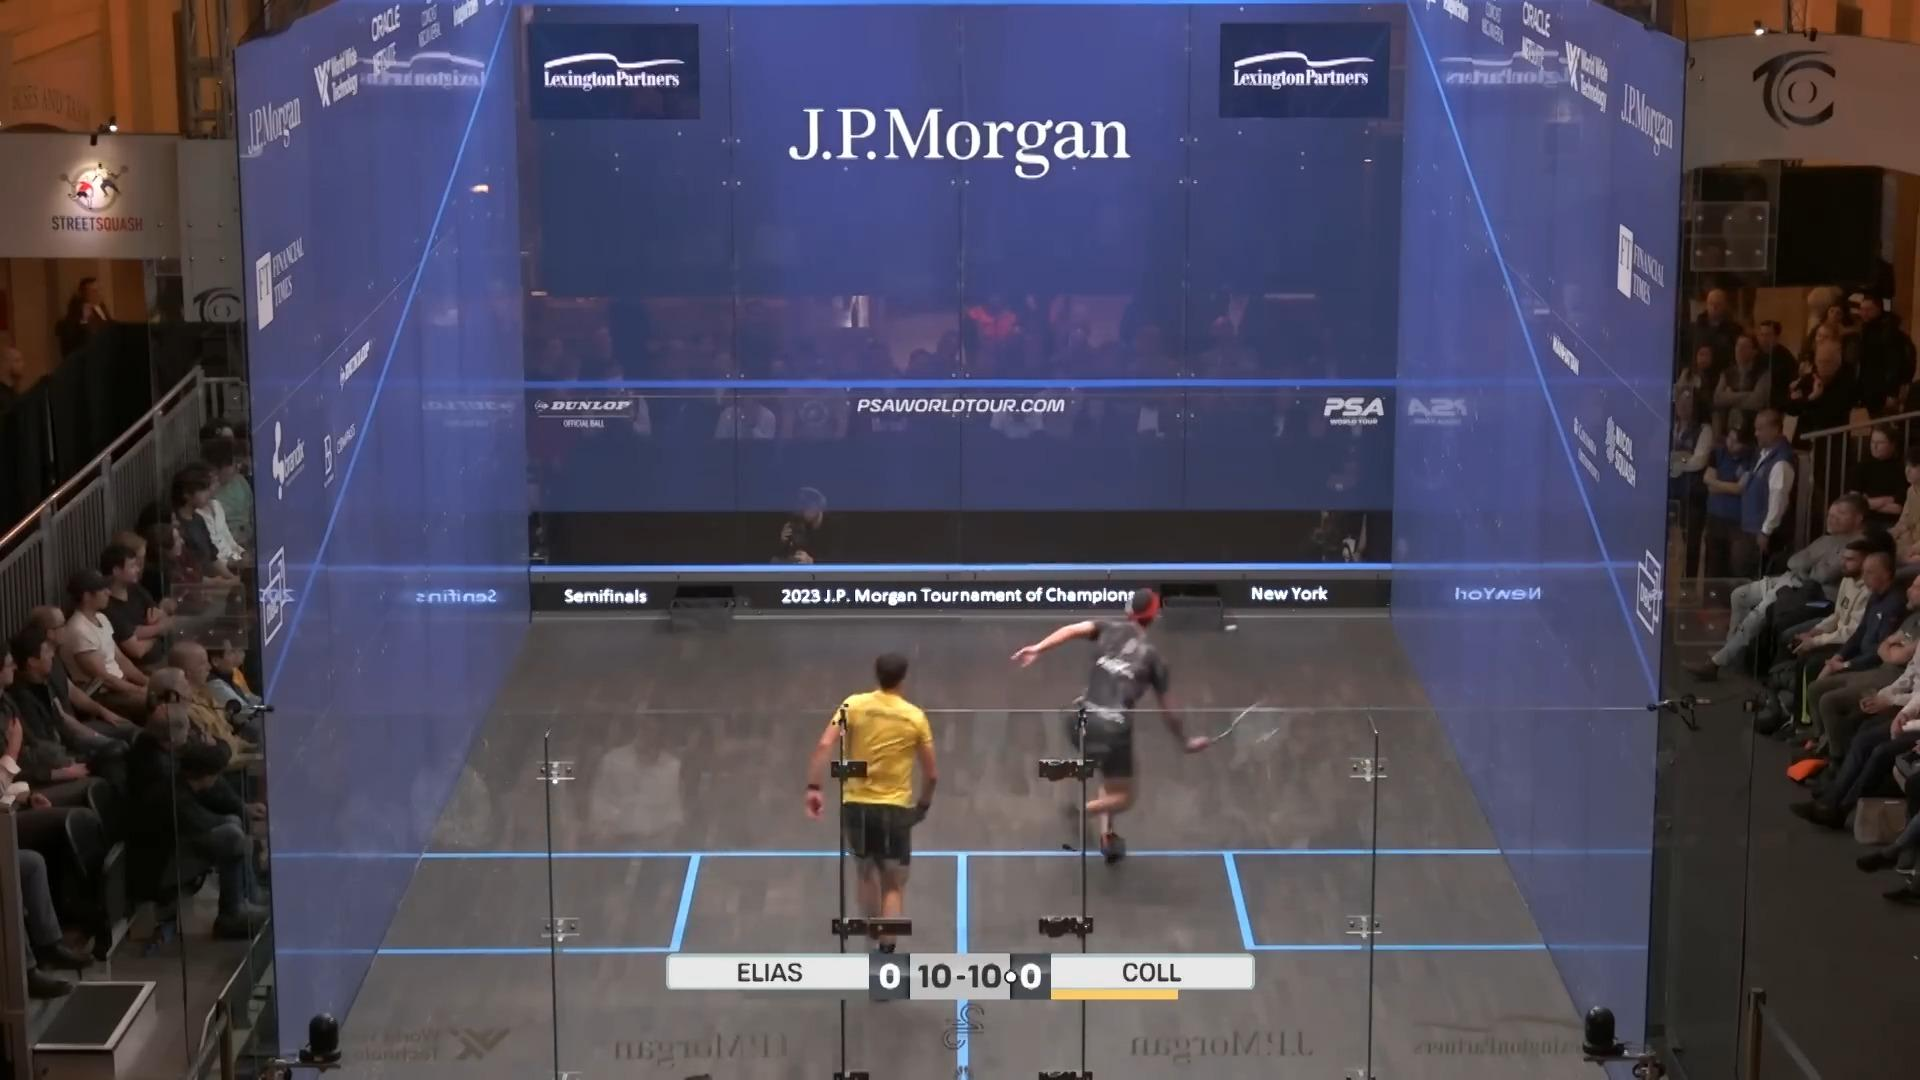Racket: (1188, 692, 1288, 757)
